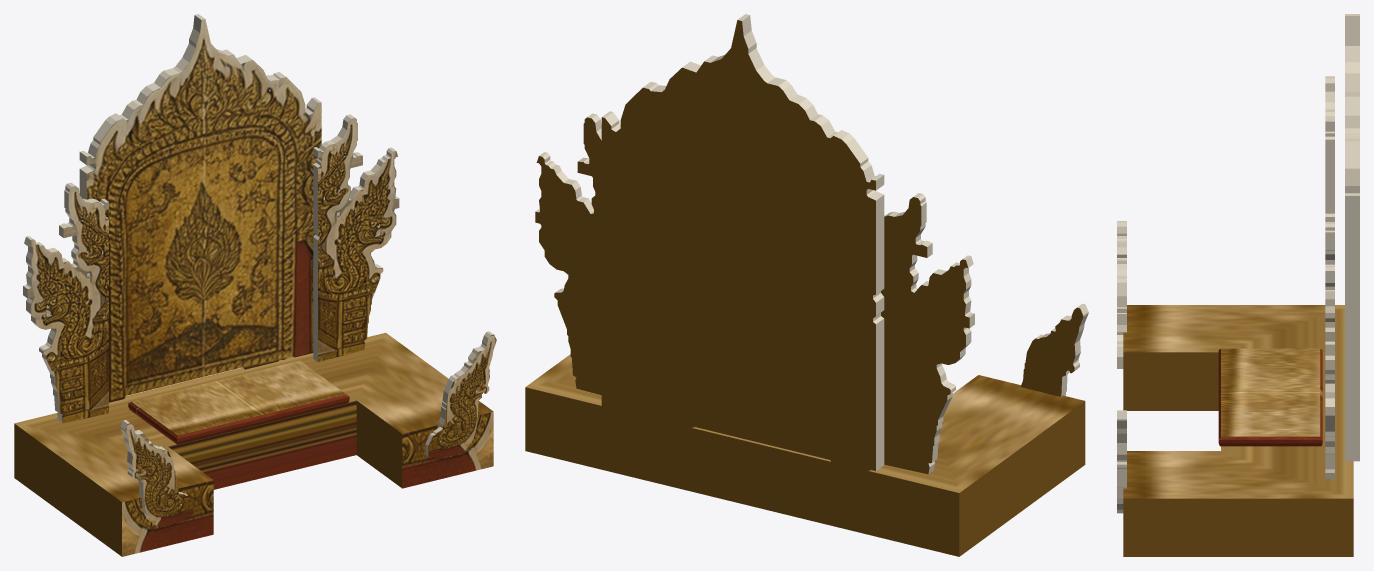
The model's file is toad-prop-cloud-chair.glb.
The picture shows the model from 3 angles, left to right: view 1: azimuth 30°, elevation 25°; view 2: azimuth 150°, elevation 25°; view 3: azimuth 270°, elevation 25°; orthographic projection. The views are drawn at different scales.
Visible parts, largest first — view 1: frame, seat; view 2: frame; view 3: frame, seat.
Part boxes in pixels (<box>): frame: <box>14,14,496,556</box>; seat: <box>128,360,349,444</box>; frame: <box>525,14,1088,556</box>; frame: <box>1117,14,1359,556</box>; seat: <box>1218,348,1322,446</box>.
Size of the model in its own units: 0.37 by 0.396 by 0.196.
Materials: 1 (1 with a texture image).
